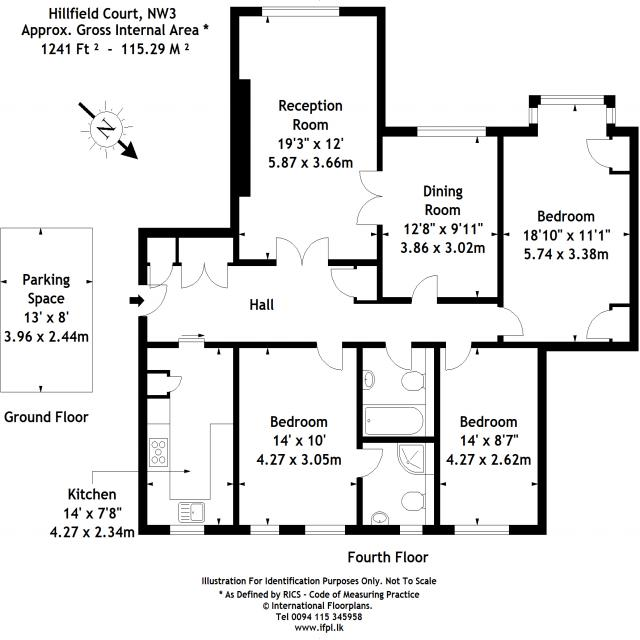DOOR: (327, 264, 358, 303), (584, 137, 615, 172), (443, 341, 476, 373), (314, 341, 345, 375), (356, 446, 386, 481), (497, 303, 527, 337), (384, 342, 415, 374), (409, 272, 438, 304)
ROOM: (230, 6, 386, 266), (496, 95, 639, 352), (233, 340, 384, 535), (349, 127, 504, 305), (433, 341, 547, 535), (137, 342, 239, 535)
WINDOW: (260, 3, 341, 20), (416, 125, 487, 139), (452, 522, 511, 537), (539, 93, 606, 106), (304, 523, 347, 537), (169, 522, 206, 537), (248, 523, 281, 538), (398, 523, 424, 537), (527, 106, 540, 125), (604, 106, 617, 125)
